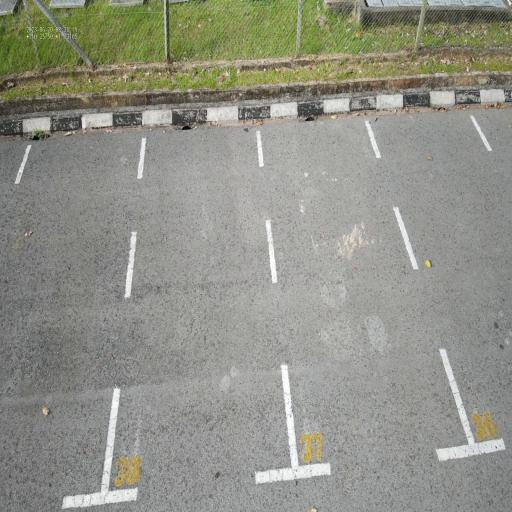Empty: (96, 114, 306, 512)
